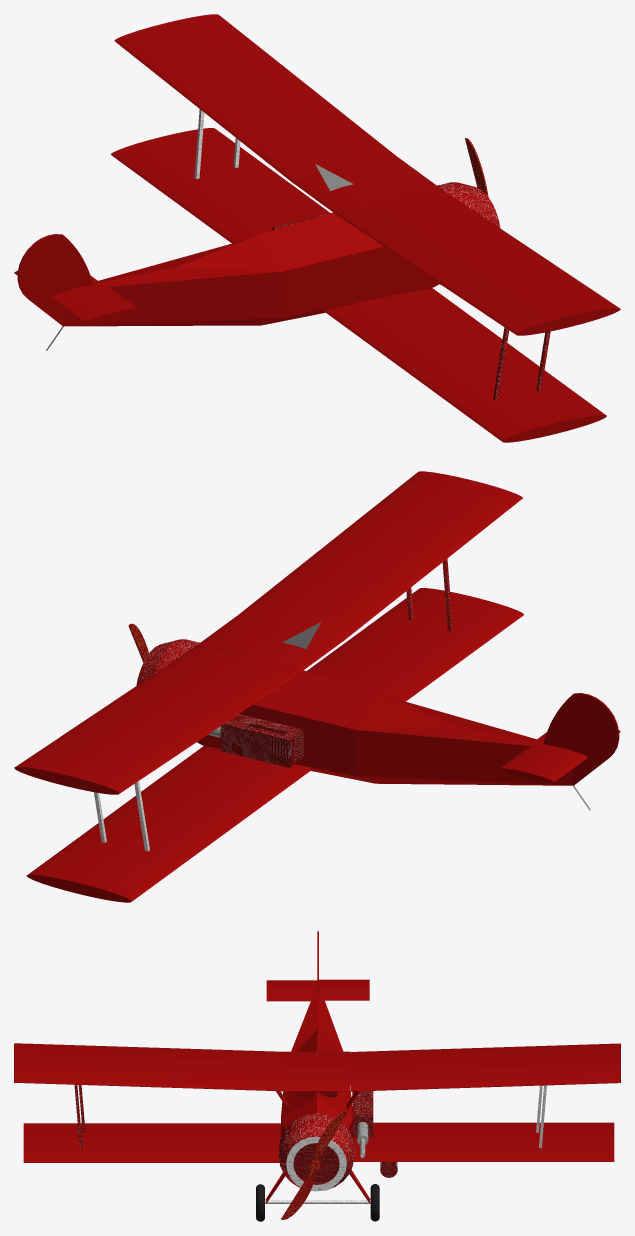
3 views of the same model, one above another, from view 1: azimuth 30°, elevation 25°; view 2: azimuth 150°, elevation 25°; view 3: azimuth 270°, elevation 25° (orthographic). The views are drawn at different scales.
Visible parts, largest first — view 1: mesh30.001_mesh30-geometry, mesh16.001_mesh16-geometry, mesh13.001_mesh13-geometry, mesh10.001_mesh10-geometry, mesh7.001_mesh7-geometry, mesh1.001_mesh1-geometry, mesh29.001_mesh29-geometry; view 2: mesh16.001_mesh16-geometry, mesh30.001_mesh30-geometry, mesh7.001_mesh7-geometry, mesh13.001_mesh13-geometry, mesh10.001_mesh10-geometry, mesh48_mesh48-geometry, mesh4.001_mesh4-geometry, mesh29.001_mesh29-geometry; view 3: mesh16.001_mesh16-geometry, mesh13.001_mesh13-geometry, mesh10.001_mesh10-geometry, mesh7.001_mesh7-geometry, mesh29.001_mesh29-geometry, mesh30.001_mesh30-geometry, mesh48_mesh48-geometry, mesh1.001_mesh1-geometry, mesh4.001_mesh4-geometry, mesh28.001_mesh28-geometry, mesh26.001_mesh26-geometry.
Boxes of the visible parts, x1,y1,x2,y2 form: mesh30.001_mesh30-geometry: (17, 212, 439, 326); mesh16.001_mesh16-geometry: (293, 156, 620, 335); mesh13.001_mesh13-geometry: (114, 14, 396, 182); mesh10.001_mesh10-geometry: (323, 288, 606, 442); mesh7.001_mesh7-geometry: (110, 128, 330, 243); mesh1.001_mesh1-geometry: (51, 284, 138, 323); mesh29.001_mesh29-geometry: (437, 182, 500, 284); mesh16.001_mesh16-geometry: (194, 471, 522, 673); mesh30.001_mesh30-geometry: (197, 670, 619, 785); mesh7.001_mesh7-geometry: (26, 746, 311, 902); mesh13.001_mesh13-geometry: (14, 647, 298, 794); mesh10.001_mesh10-geometry: (307, 588, 523, 701); mesh48_mesh48-geometry: (208, 714, 303, 767); mesh4.001_mesh4-geometry: (499, 744, 587, 782); mesh29.001_mesh29-geometry: (136, 639, 199, 685); mesh16.001_mesh16-geometry: (14, 1043, 350, 1091); mesh13.001_mesh13-geometry: (350, 1043, 620, 1091); mesh10.001_mesh10-geometry: (23, 1123, 280, 1162); mesh7.001_mesh7-geometry: (353, 1122, 614, 1161); mesh29.001_mesh29-geometry: (279, 1113, 354, 1191); mesh30.001_mesh30-geometry: (276, 931, 369, 1202); mesh48_mesh48-geometry: (352, 1091, 373, 1158); mesh1.001_mesh1-geometry: (266, 980, 317, 1001); mesh4.001_mesh4-geometry: (319, 979, 369, 1000); mesh28.001_mesh28-geometry: (281, 1171, 314, 1219); mesh26.001_mesh26-geometry: (314, 1111, 348, 1160).
Size of the model in its own units: 0.5444 by 0.2369 by 0.8047.
